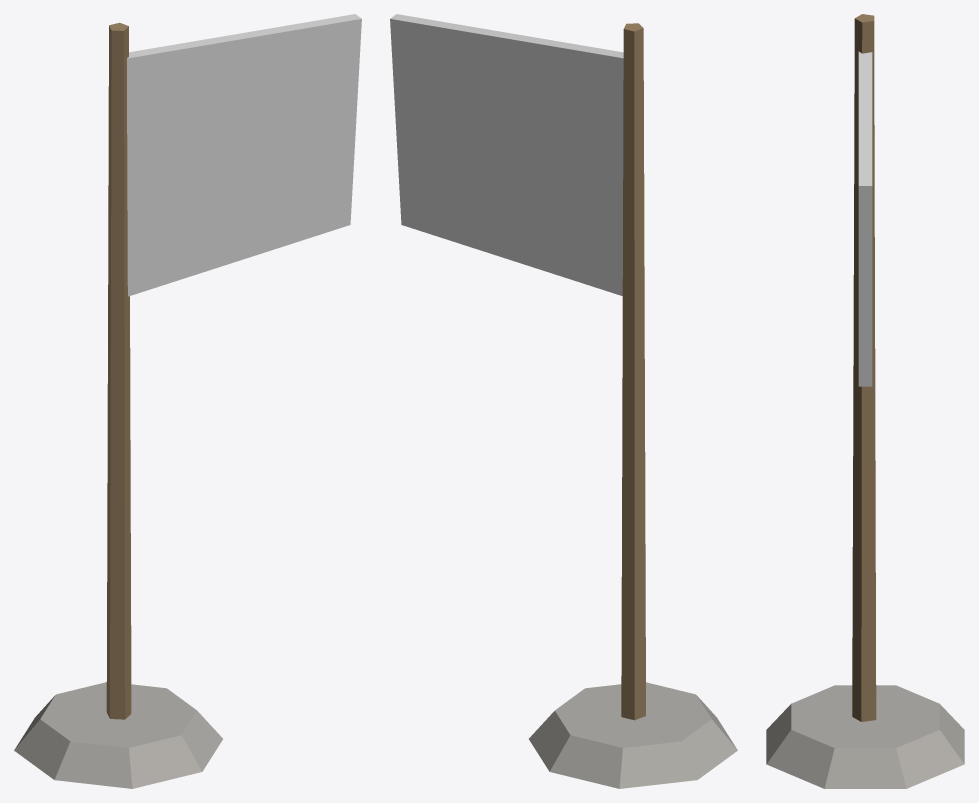
The model's file is unknown.glb.
3 renders of one model, left to right at view 1: azimuth 30°, elevation 25°; view 2: azimuth 150°, elevation 25°; view 3: azimuth 270°, elevation 25°, orthographic.
Visible parts, largest first — view 1: LOD0; view 2: LOD0; view 3: LOD0.
Part boxes in pixels (bbox=[...]): LOD0: bbox=[14, 14, 361, 788]; LOD0: bbox=[390, 14, 737, 788]; LOD0: bbox=[766, 14, 964, 788].
Size of what is drawn, in the model's own units: 0.5678 by 1.2 by 0.2956.
